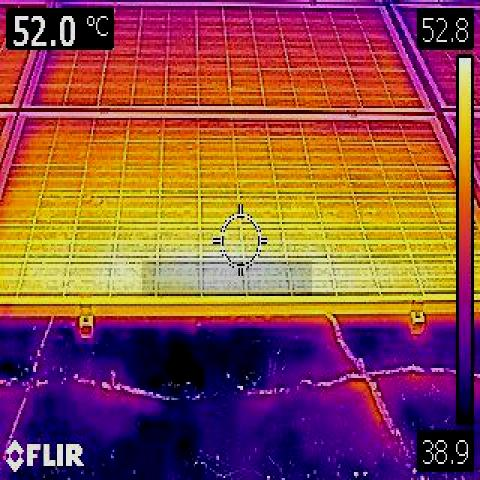fault: (142, 260, 312, 296)
